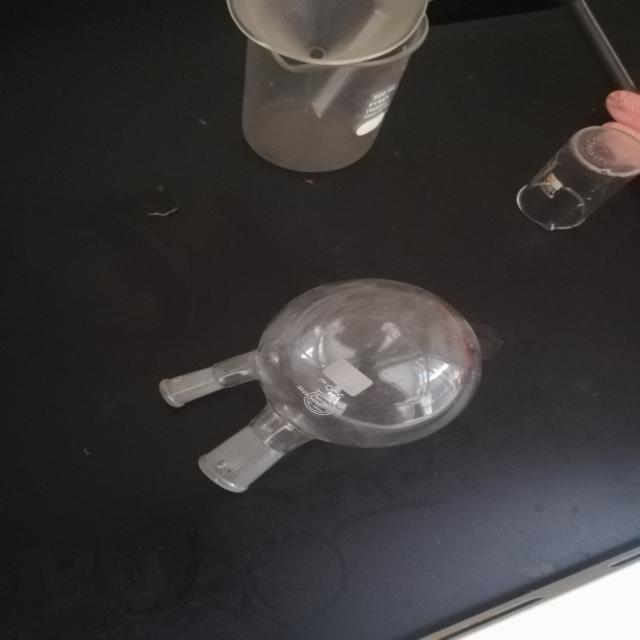Round_Bottom_Flask_Borosilicate_Glass_2_Neck: (125, 257, 521, 532)
